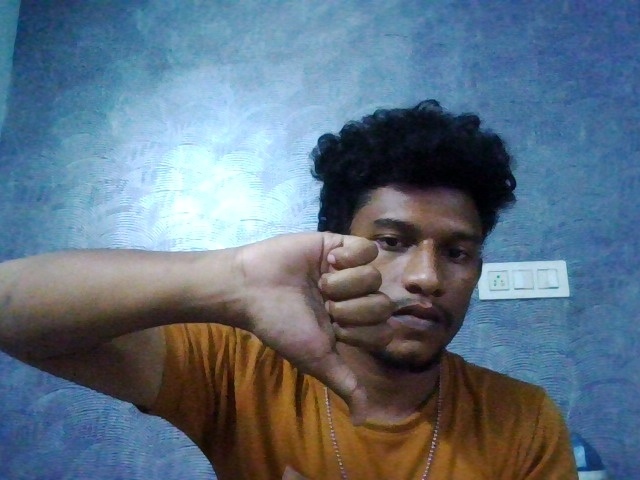no: (218, 218, 406, 439)
